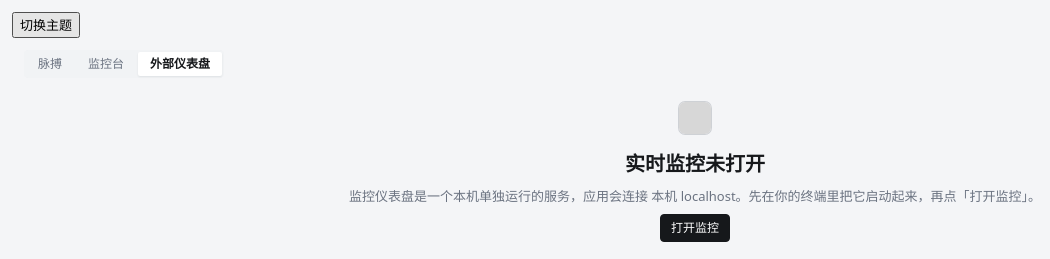
Scenario: MonitorPage › retries three times before reporting the dashboard as unreachable
Click the button "打开监控": (695, 228) top-left (660, 214), bottom-right (730, 242)
Wait 2400 ms
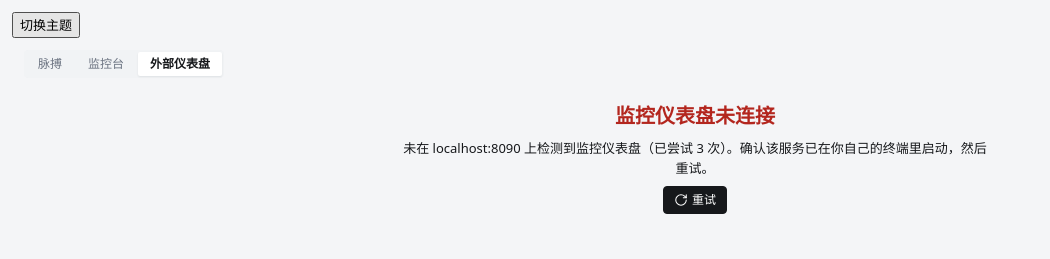
Check: the text "监控仪表盘未连接" is shown, box top-left (615, 102), bottom-right (775, 130)
Check: the text "未在 localhost:8090 上检测到监控仪表盘（已尝试 3 次）。确认该服务已在你自己的终端里启动，然后重试。" is shown, box top-left (399, 138), bottom-right (991, 178)
